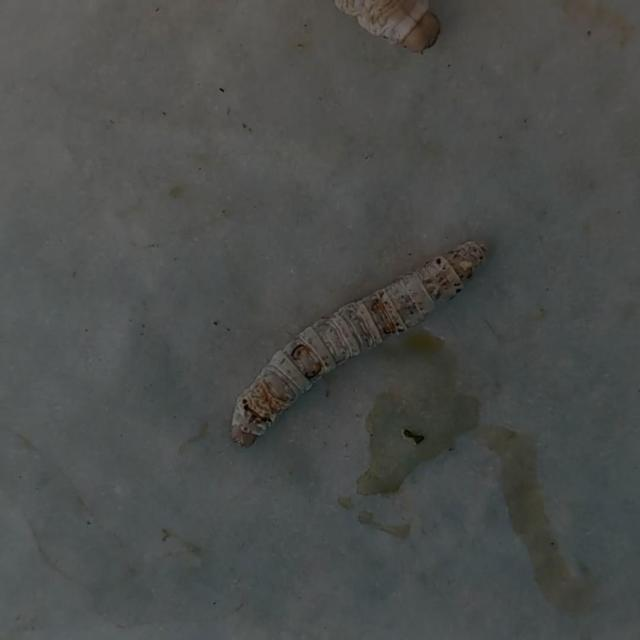Grasserie: (212, 206, 508, 473)
